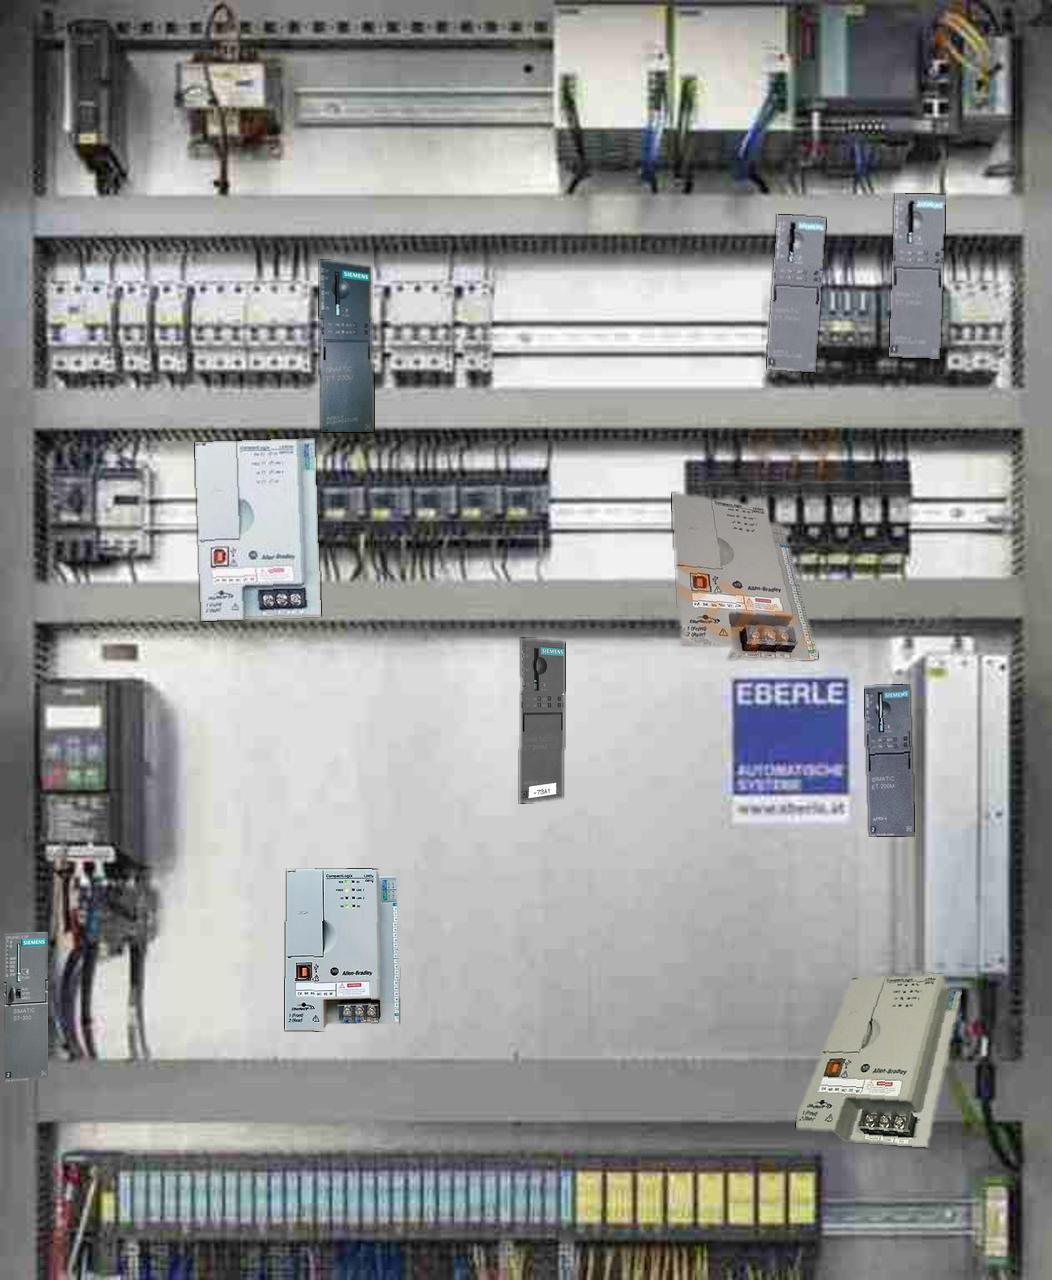AllenBradley: (796, 974, 961, 1147), (672, 493, 817, 659), (196, 439, 320, 620), (285, 869, 398, 1030)
Siemens: (4, 932, 47, 1081)
